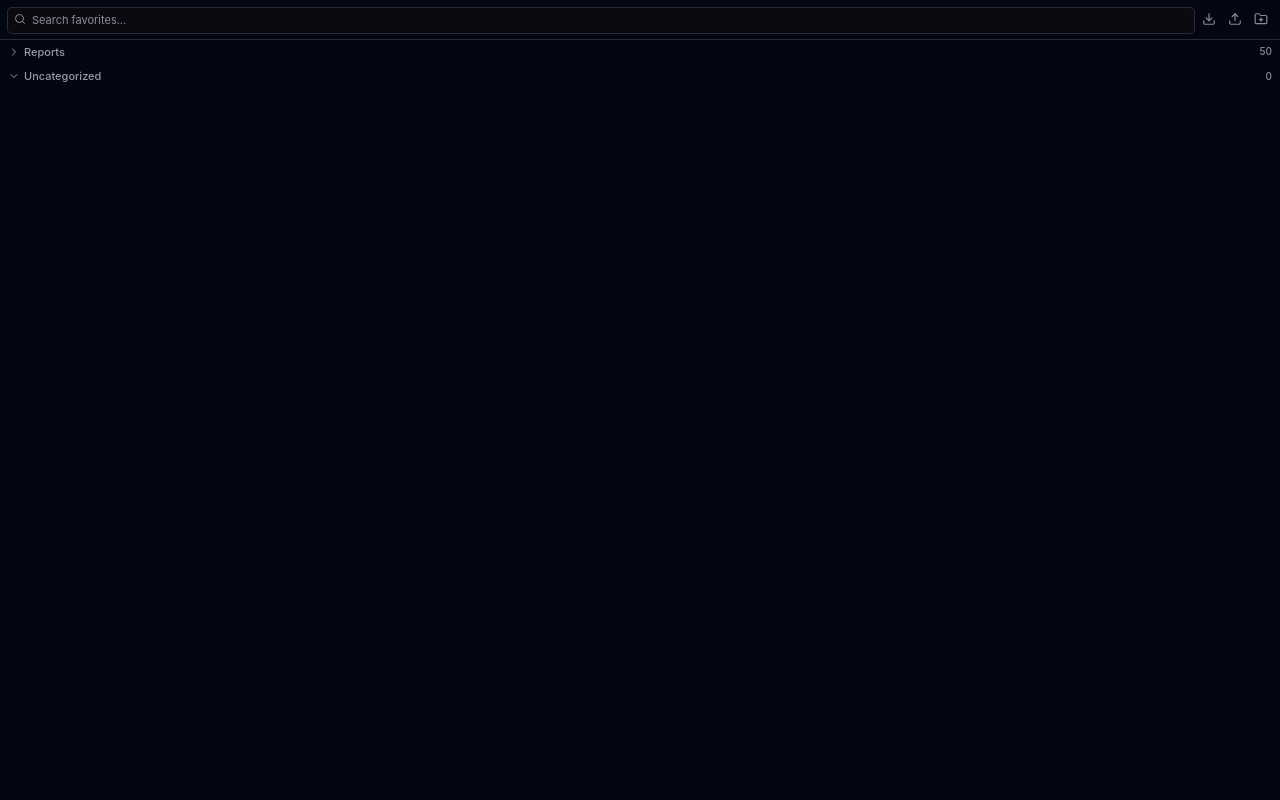
Test case: QueryFavorites — delete category confirmation (#337) › shows a ConfirmDialog with category name and favorite count when Delete Category is clicked
Right-click the button "Reports 50" at [44, 52], box [0, 40, 1279, 64]
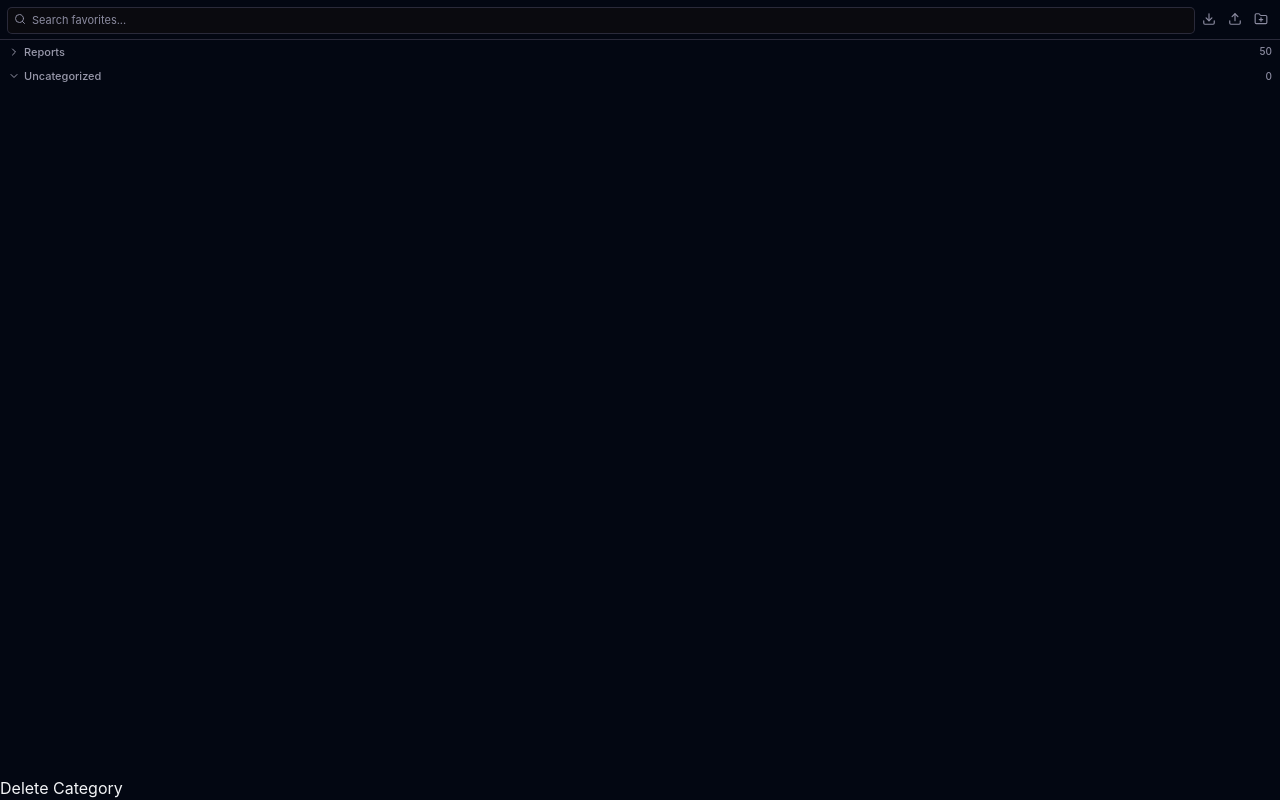
expect the button with test id "ctx-item-Delete Category" is shown: met
Click the button with test id "ctx-item-Delete Category" at [61, 788], box [0, 776, 123, 799]
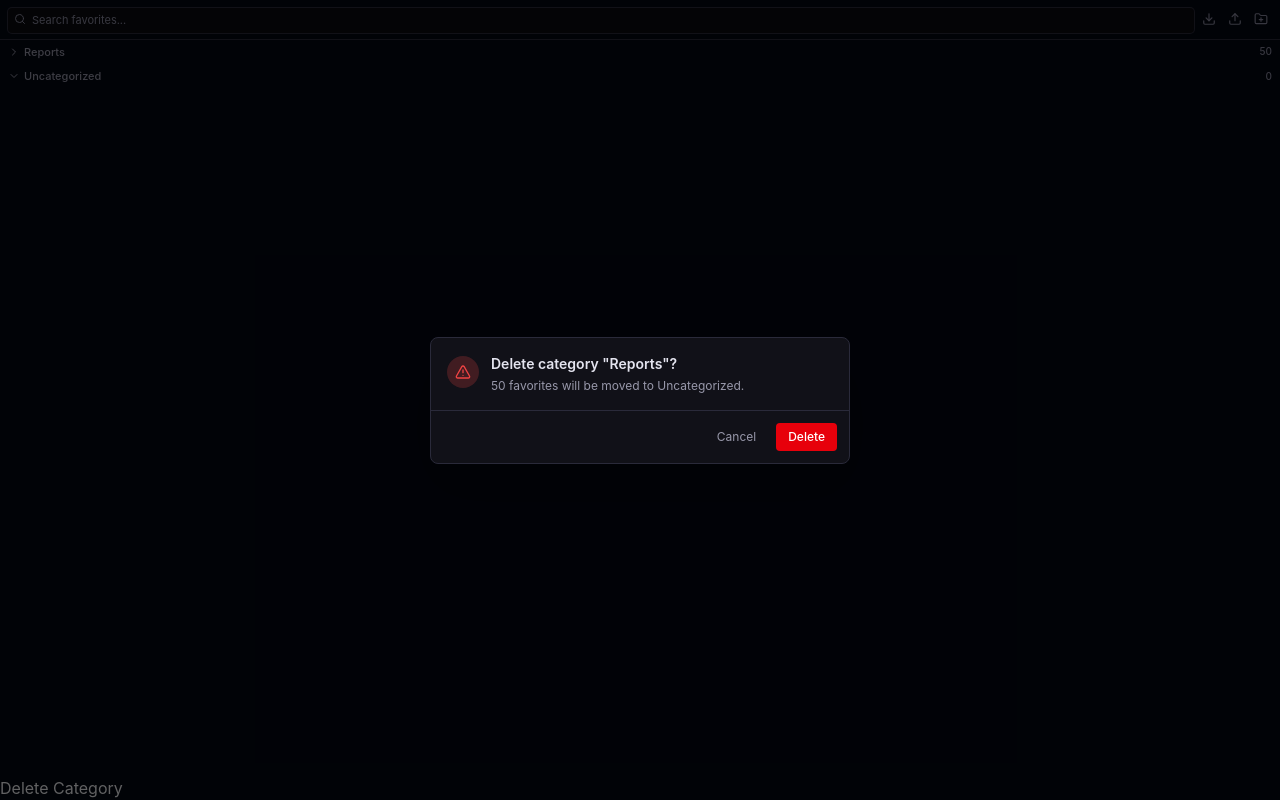
expect the heading "Delete category \"Reports\"?" is shown: met, box [491, 354, 677, 372]
expect the text "50 favorites will be moved to Uncategorized." is shown: met, box [491, 378, 744, 392]
